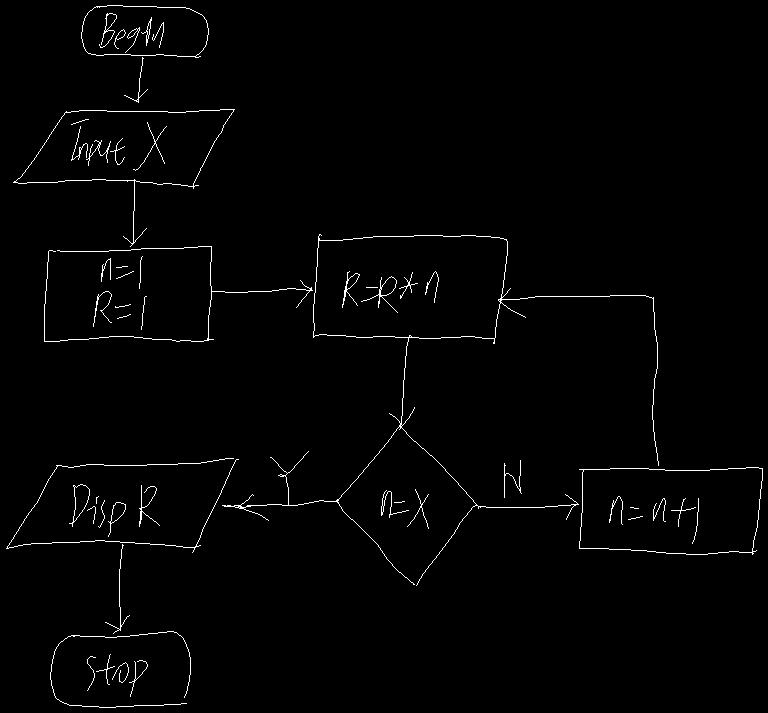arrow: (498, 288, 658, 465), (222, 494, 338, 520), (212, 280, 312, 307), (478, 494, 578, 519), (389, 335, 414, 429), (105, 544, 129, 633), (123, 179, 146, 246), (124, 57, 147, 102)
data: (6, 458, 238, 552), (13, 109, 234, 188)
decision: (335, 424, 478, 585)
process: (313, 234, 507, 343), (44, 246, 213, 341), (579, 467, 762, 554)
terminator: (50, 631, 190, 707), (81, 5, 208, 57)
text: (71, 119, 166, 170), (69, 484, 159, 536), (609, 496, 698, 543), (342, 271, 438, 312), (93, 256, 146, 329), (87, 654, 147, 696), (99, 13, 163, 52), (270, 451, 308, 504), (381, 489, 428, 528), (504, 460, 521, 497)
